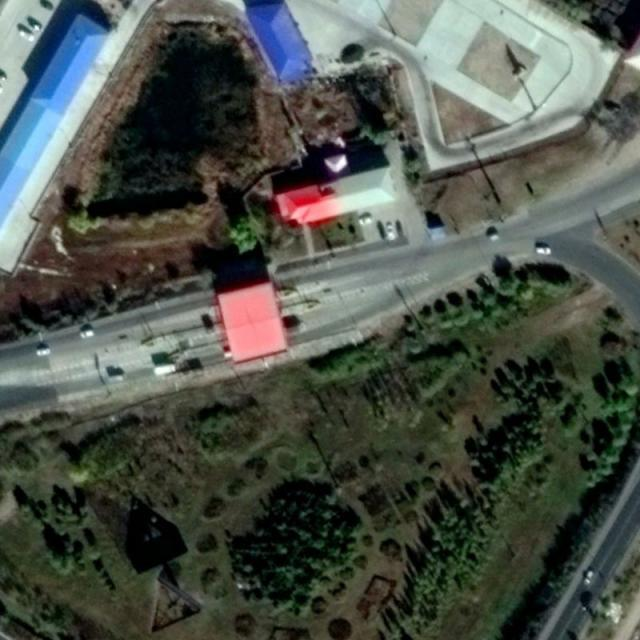vehicle: (154, 364, 175, 377), (18, 30, 34, 42), (107, 374, 126, 384), (357, 215, 374, 226), (386, 223, 394, 240), (35, 348, 50, 357), (584, 570, 593, 584), (42, 2, 55, 11), (79, 330, 93, 338), (537, 247, 551, 254), (489, 232, 498, 242)
